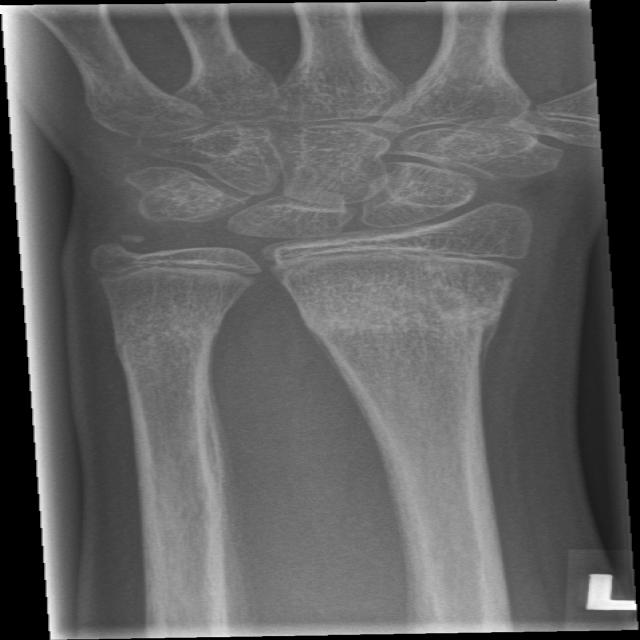radius fracture: (265, 282, 557, 387)
